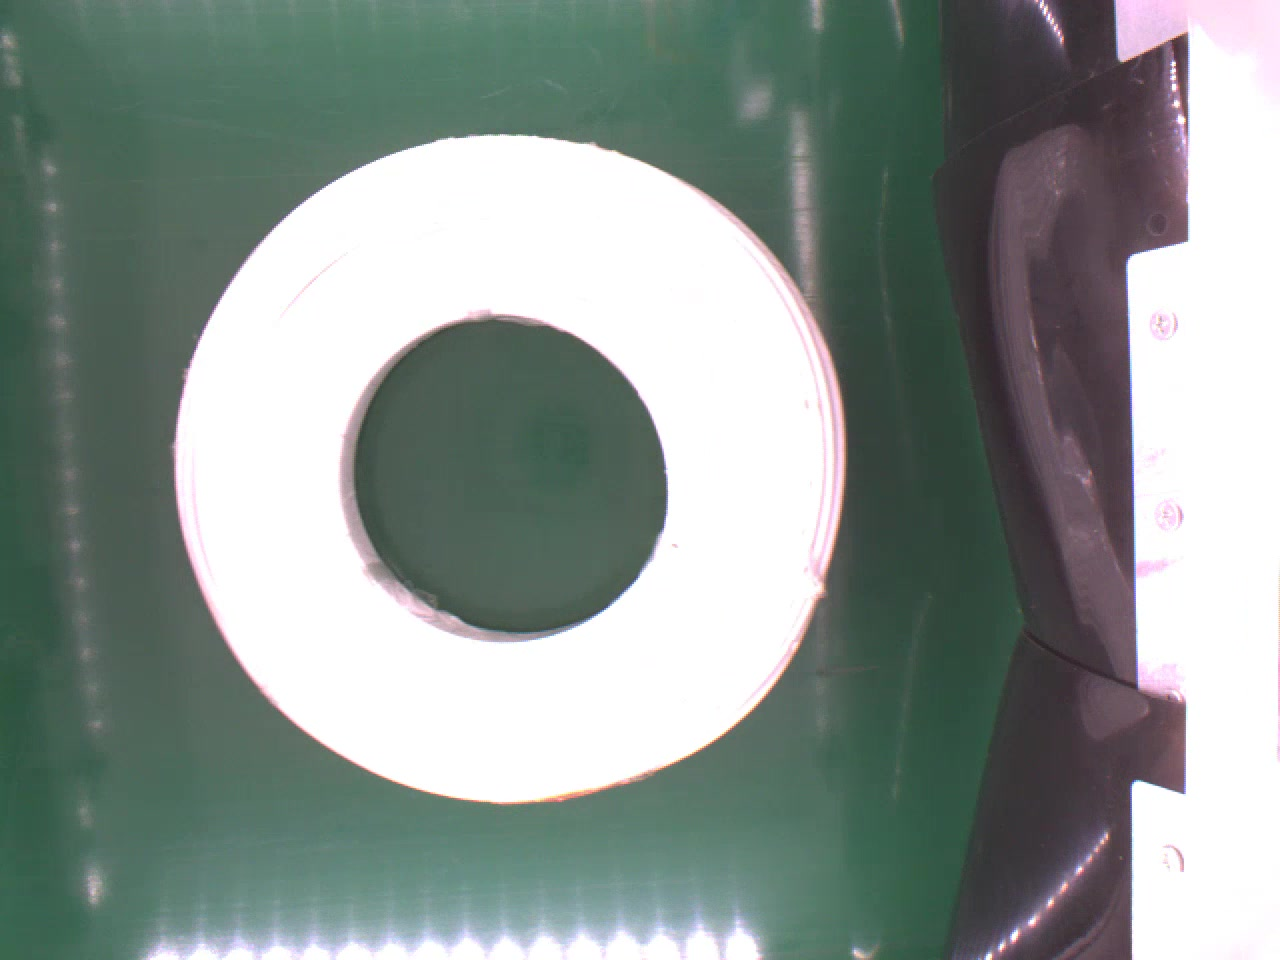white: (170, 125, 857, 812)
